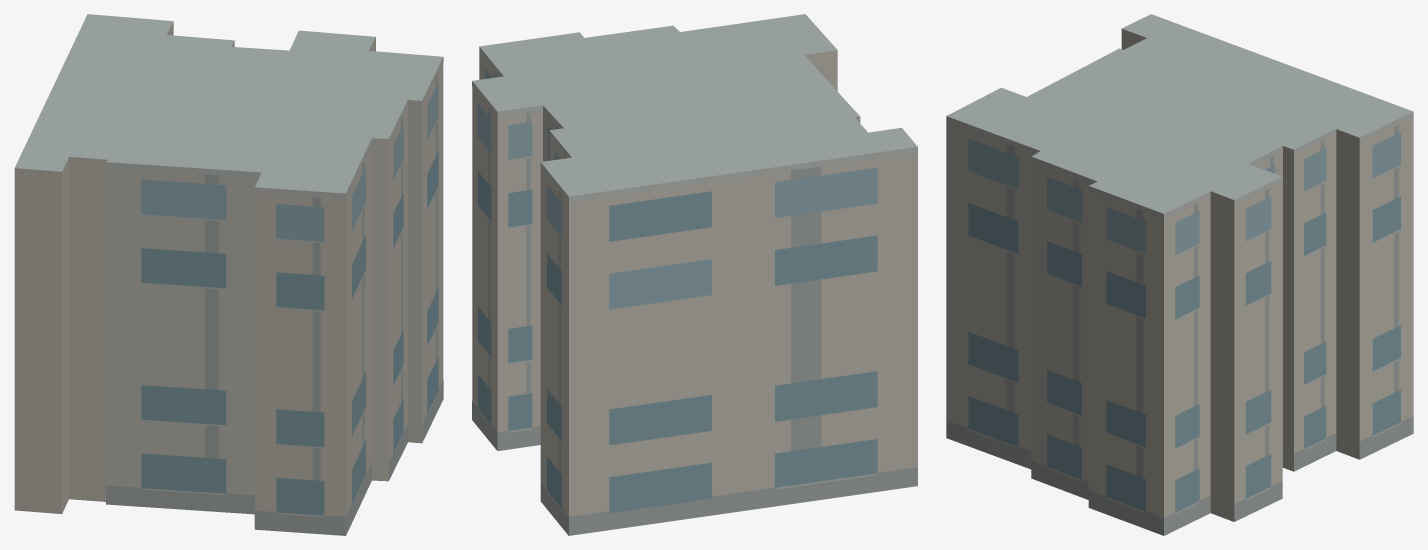
File: survey-upis-32702277.glb
The picture shows the model from 3 angles, left to right: view 1: azimuth 30°, elevation 25°; view 2: azimuth 150°, elevation 25°; view 3: azimuth 270°, elevation 25°; orthographic projection. The views are drawn at different scales.
Parts seen in each view (by area): view 1: survey-upis-32702277.tmp; view 2: survey-upis-32702277.tmp; view 3: survey-upis-32702277.tmp.
Boxes of the visible parts, bbox=[...] form: survey-upis-32702277.tmp: bbox=[14, 14, 443, 535]; survey-upis-32702277.tmp: bbox=[472, 14, 917, 535]; survey-upis-32702277.tmp: bbox=[946, 14, 1413, 535].
Bounding box in the file's own units: 18.79 × 14.1 × 18.56.
